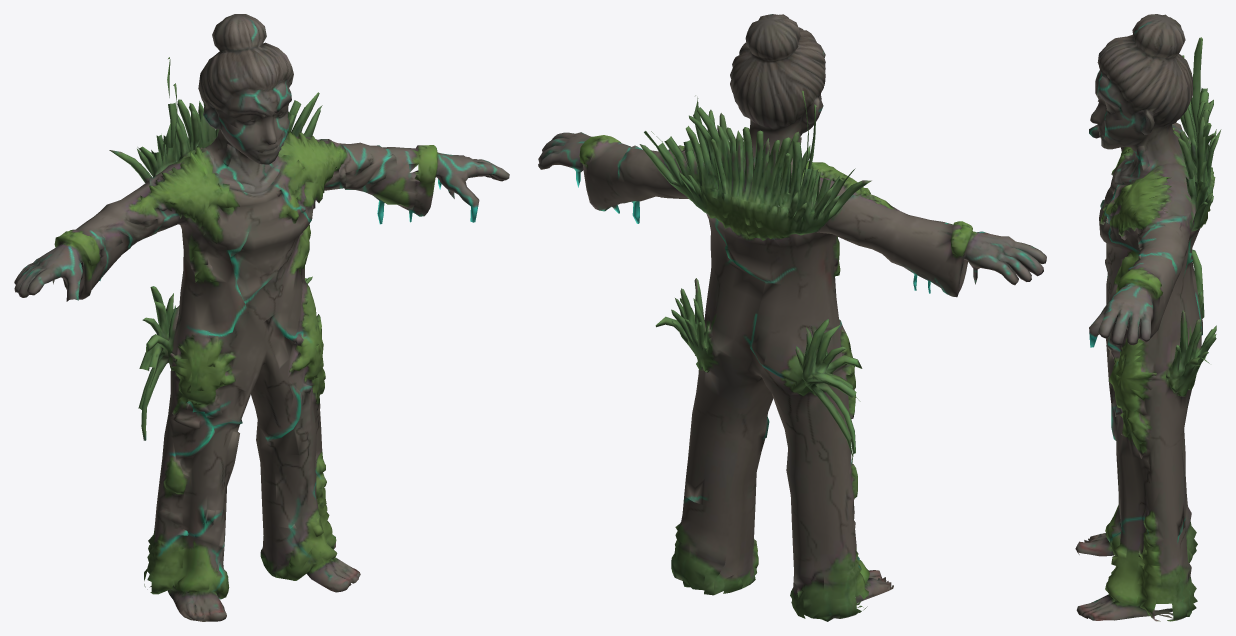
File: sazlik_clean.glb
3 views of the same model, side by side, from view 1: azimuth 30°, elevation 25°; view 2: azimuth 150°, elevation 25°; view 3: azimuth 270°, elevation 25° (orthographic). The views are drawn at different scales.
Parts seen in each view (by area): view 1: tripo_node_f70d0786-e6aa-4d2d-b42f-67a061c7072d; view 2: tripo_node_f70d0786-e6aa-4d2d-b42f-67a061c7072d; view 3: tripo_node_f70d0786-e6aa-4d2d-b42f-67a061c7072d.
Part boxes in pixels (<box>): tripo_node_f70d0786-e6aa-4d2d-b42f-67a061c7072d: <box>14,14,509,621</box>; tripo_node_f70d0786-e6aa-4d2d-b42f-67a061c7072d: <box>538,14,1046,621</box>; tripo_node_f70d0786-e6aa-4d2d-b42f-67a061c7072d: <box>1075,14,1221,621</box>.
Bounding box in the file's own units: 0.8943 × 0.9863 × 0.2309.
1 material, 1 textured.
